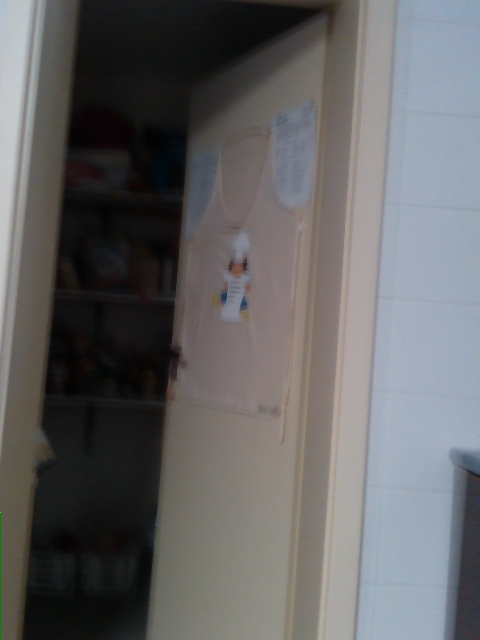semi: (0, 0, 399, 639)
